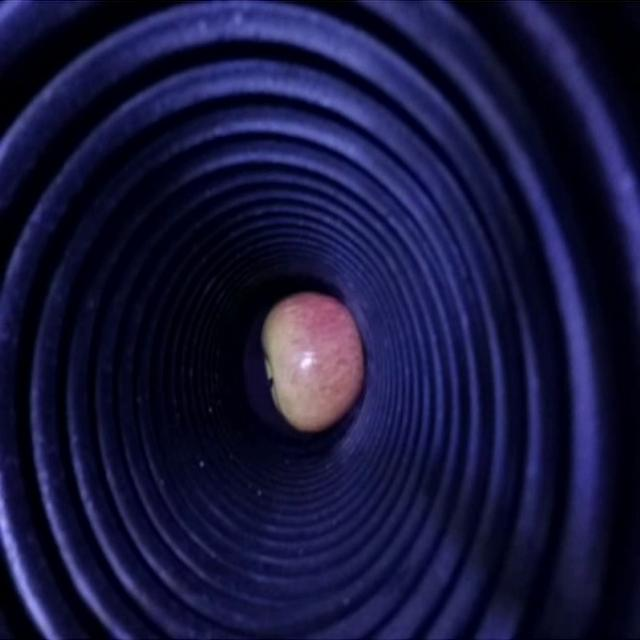obstacles: (261, 289, 365, 436)
